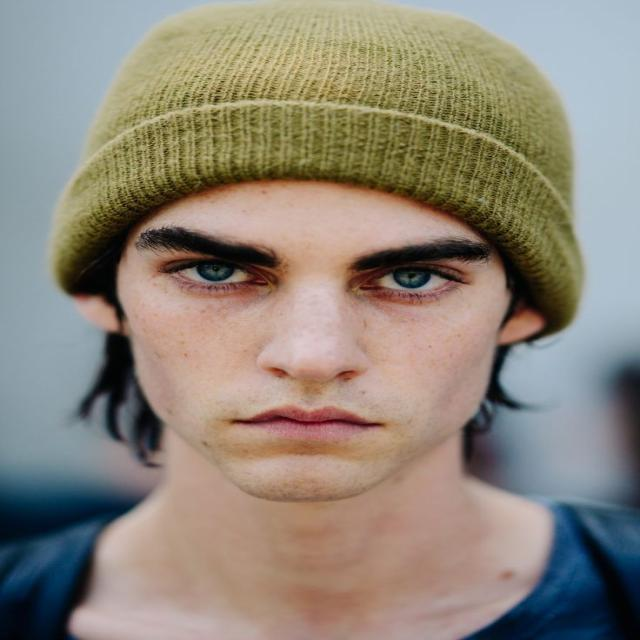earlobe: (84, 298, 124, 336), (501, 313, 535, 345)
eye: (365, 267, 456, 293), (170, 261, 259, 286)
nose: (260, 366, 368, 402)
